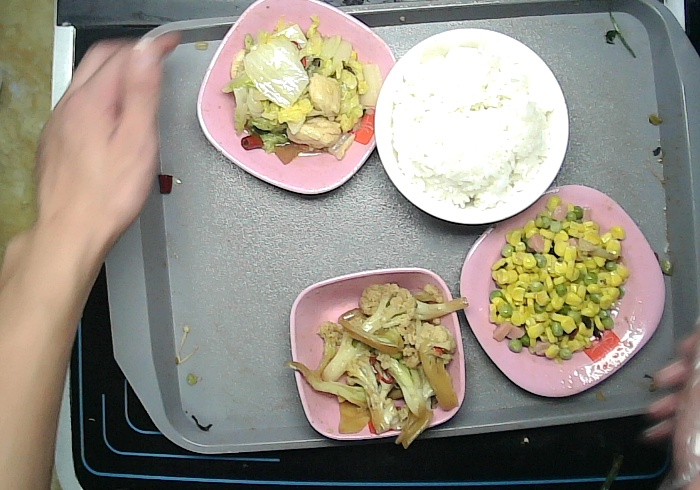SHKJ-Fan_Wan: (375, 29, 572, 232)
SHKJ-Fen_Se_Cai_Die: (196, 8, 405, 199)
SHKJ-Fen_Se_Si_Fang_Cai_Die: (459, 183, 667, 402)
SHKJ-Fen_Se_Xiao_Fang_Die: (287, 267, 465, 440)
